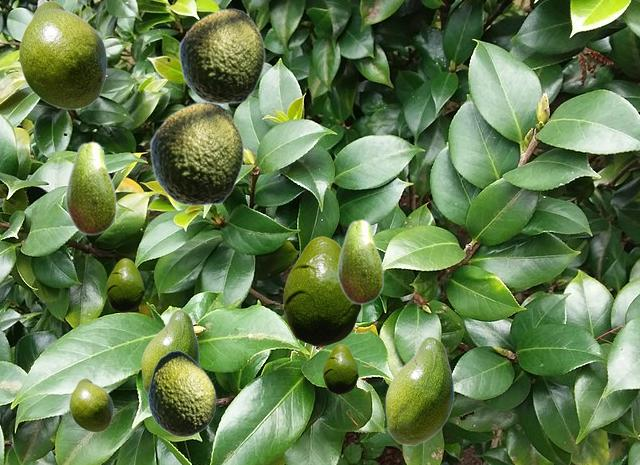avocado: (149, 101, 243, 205), (18, 0, 106, 109), (283, 236, 360, 345), (178, 8, 264, 103), (385, 336, 453, 445), (147, 350, 215, 436), (65, 140, 116, 235), (141, 309, 198, 393), (337, 218, 383, 304), (69, 378, 112, 431), (106, 258, 143, 311), (323, 344, 357, 393)
